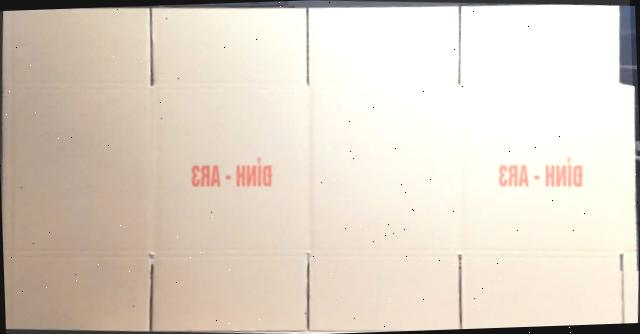box: (3, 5, 638, 331)
